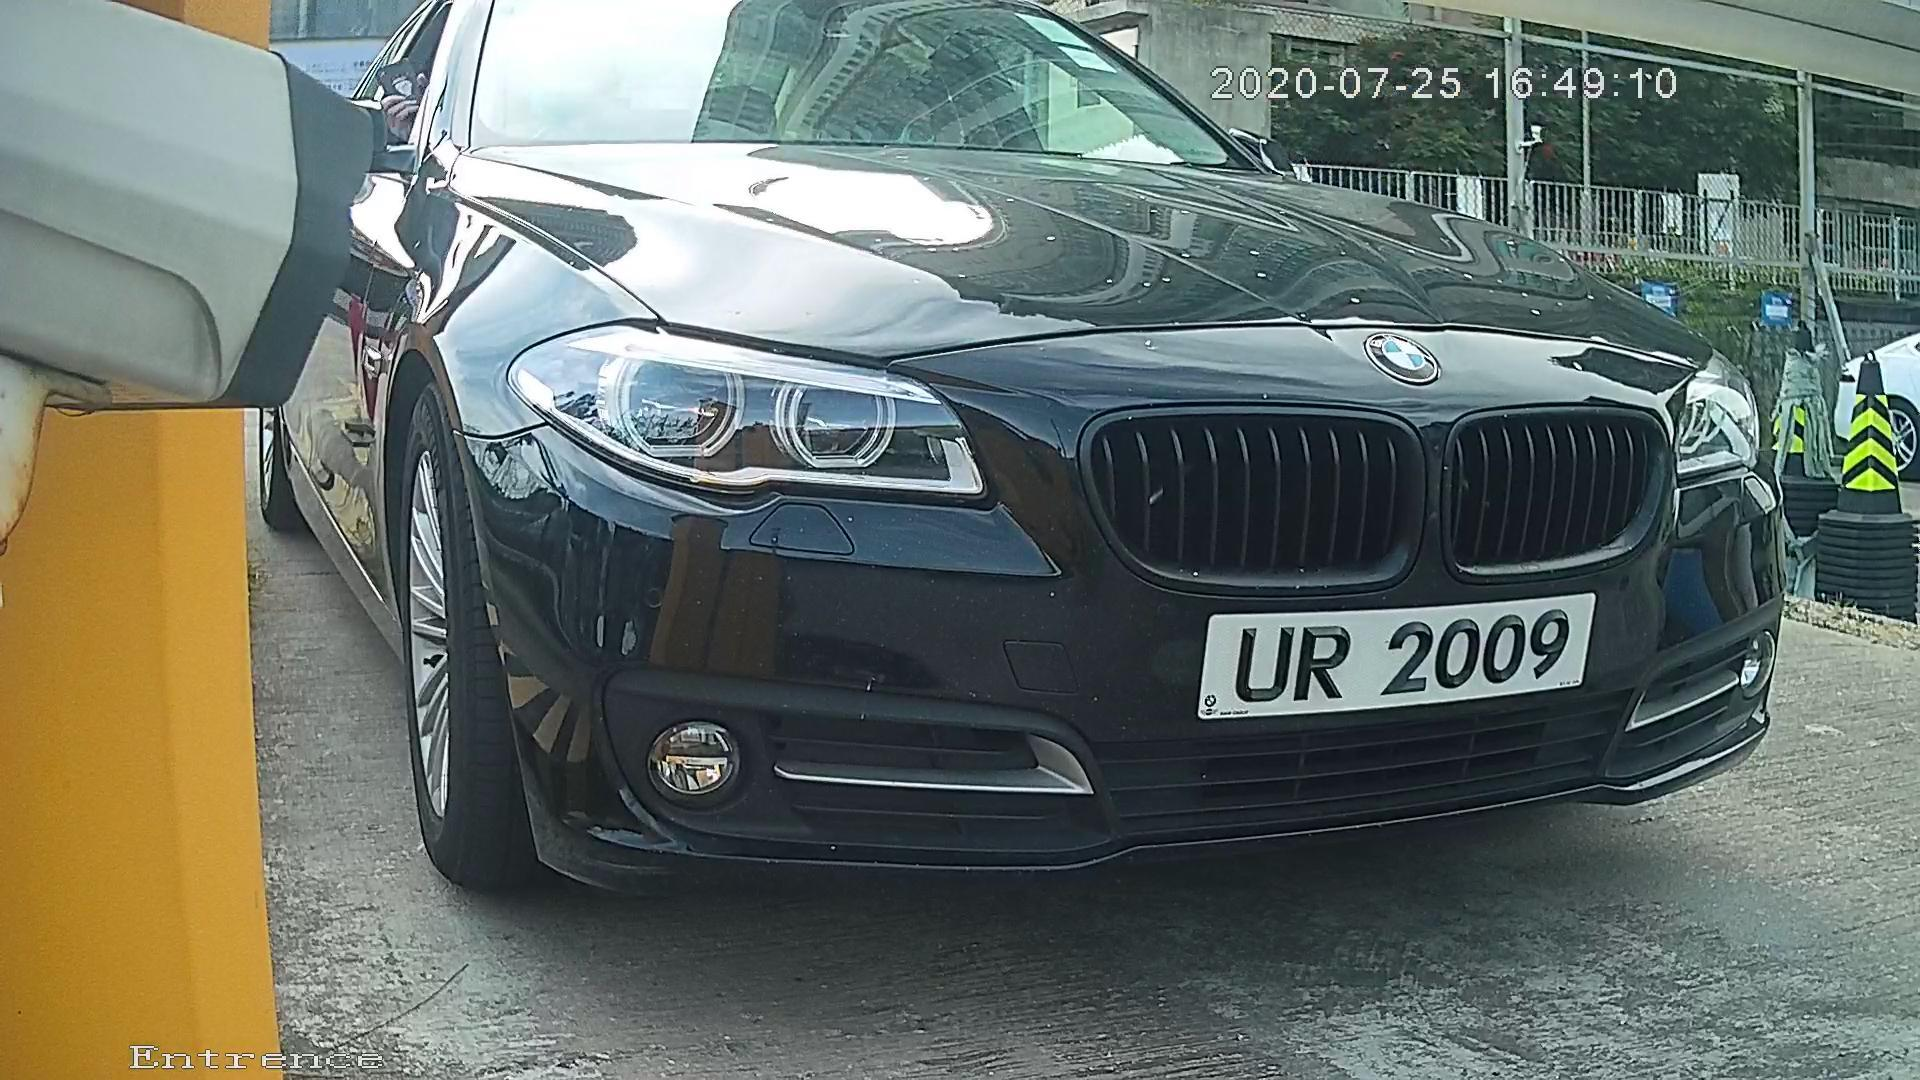privatecar: (241, 34, 1861, 945)
